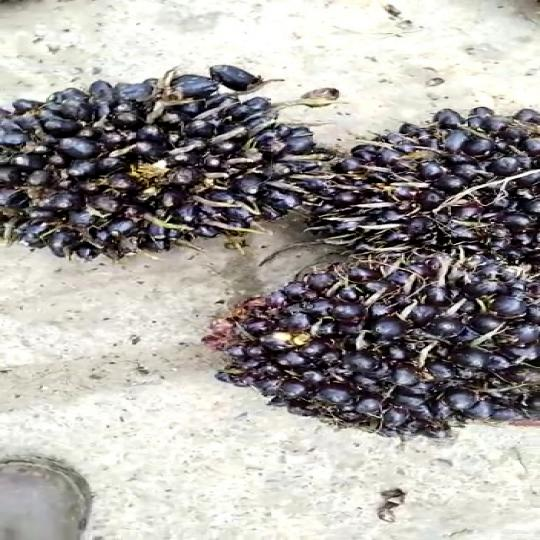mentah: (0, 63, 350, 264), (207, 250, 540, 440), (327, 81, 540, 257)
